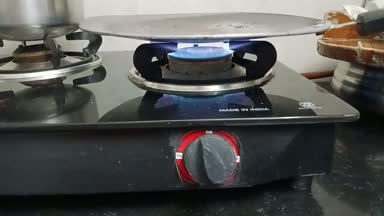flame_gas_on: (128, 39, 284, 187)
